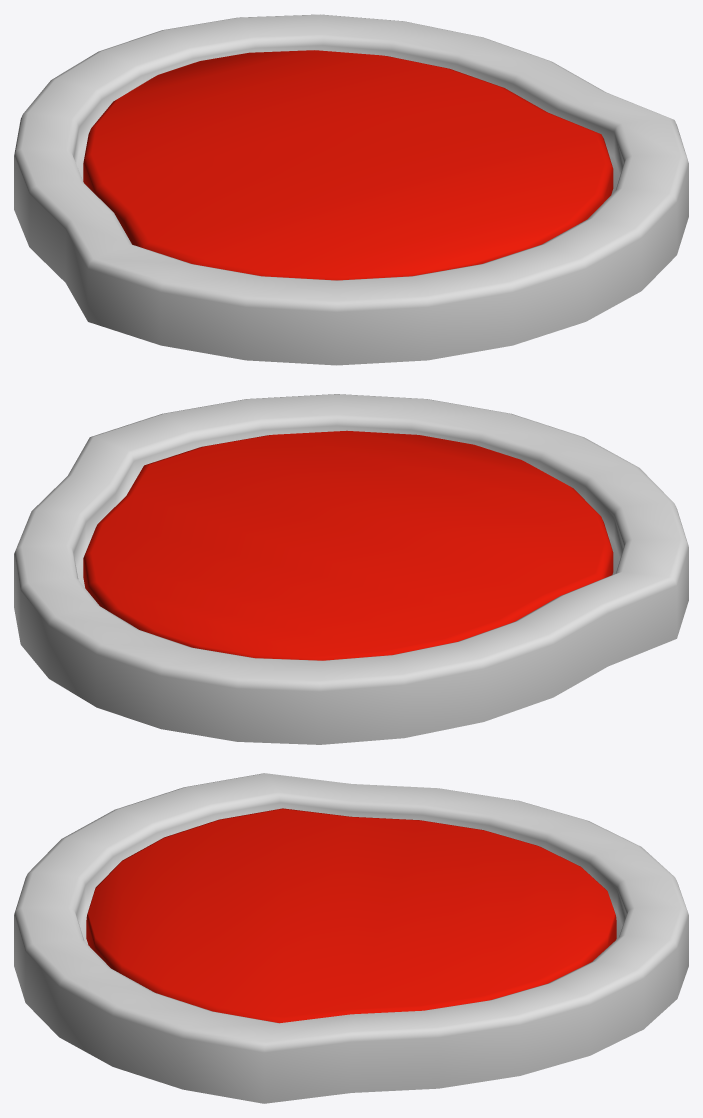
Rendered from Ginger_biscuit_01.fbx.
The picture shows the model from 3 angles, top to bottom: view 1: azimuth 30°, elevation 25°; view 2: azimuth 150°, elevation 25°; view 3: azimuth 270°, elevation 25°; orthographic projection. The views are drawn at different scales.
Visible parts, largest first — view 1: Ginger_biscuit_01; view 2: Ginger_biscuit_01; view 3: Ginger_biscuit_01.
Boxes of the visible parts, x1,y1,x2,y2 form: Ginger_biscuit_01: (14,14,688,365); Ginger_biscuit_01: (14,394,688,744); Ginger_biscuit_01: (14,773,688,1103).
Bounding box in the file's own units: 30.99 × 3.06 × 32.09.
